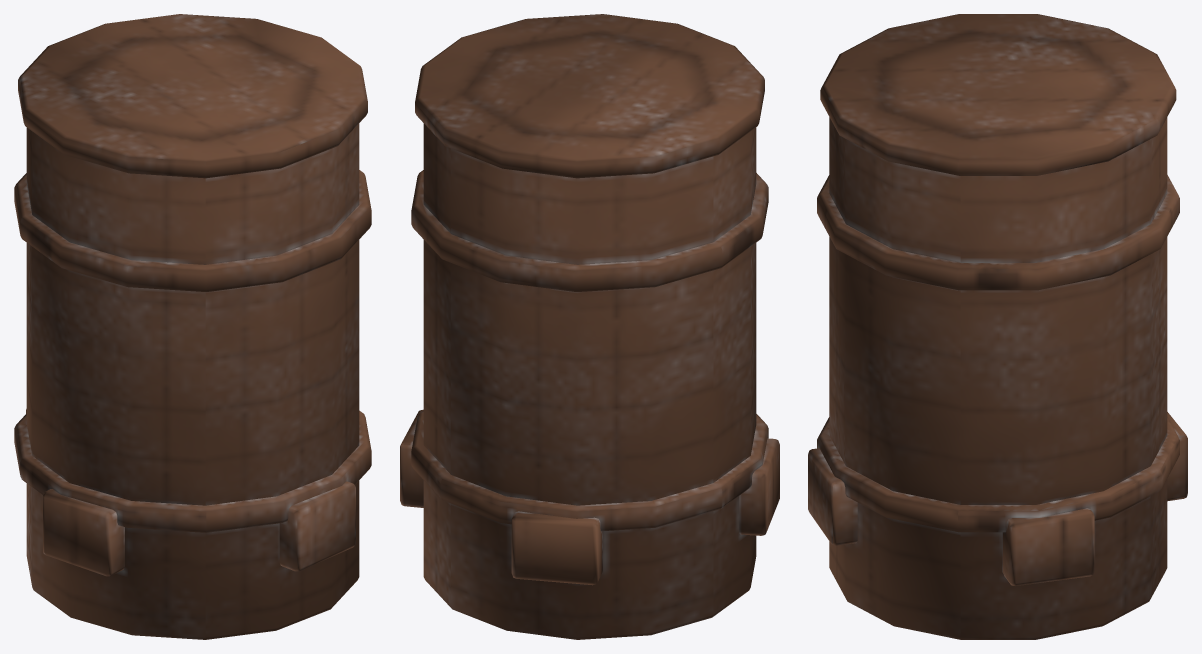
Rendered from Barril_Fuego.fbx.
3 views of the same model, side by side, from view 1: azimuth 30°, elevation 25°; view 2: azimuth 150°, elevation 25°; view 3: azimuth 270°, elevation 25° (orthographic).
Parts seen in each view (by area): view 1: Barril_Fuego; view 2: Barril_Fuego; view 3: Barril_Fuego.
Part boxes in pixels (x1,y1,x2,y2): Barril_Fuego: (14,14,371,639); Barril_Fuego: (400,14,779,639); Barril_Fuego: (808,14,1187,639).
Size of the model in its own units: 2.13 by 3.02 by 2.13.
